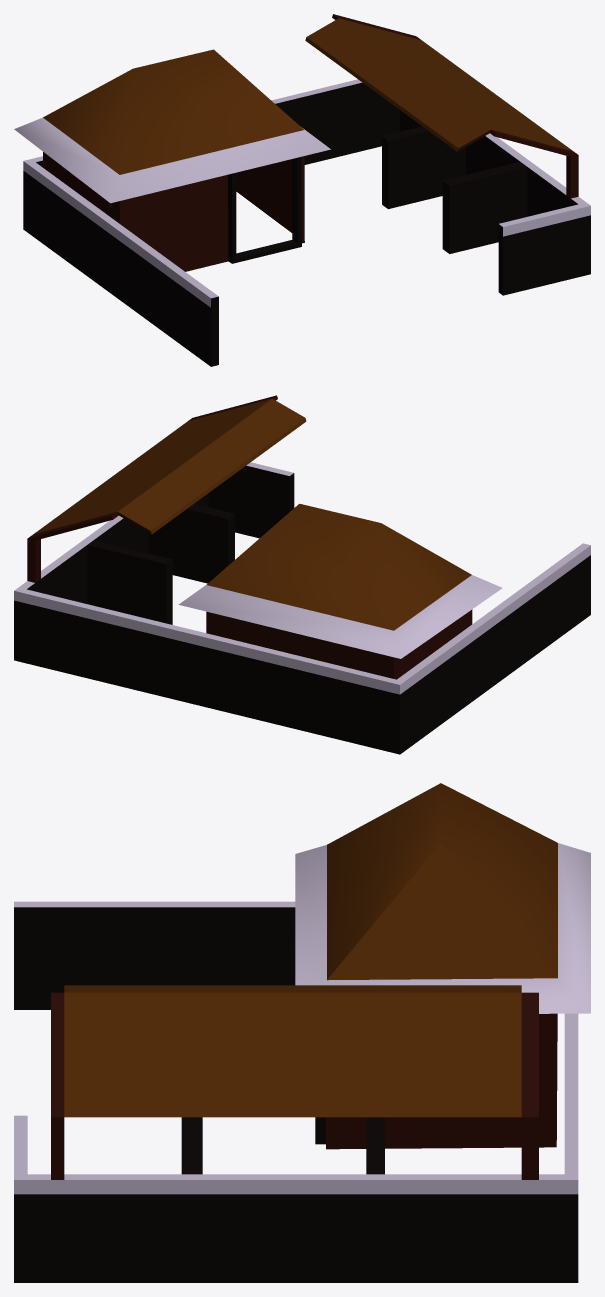
The model's file is stable.obj.
The picture shows the model from 3 angles, top to bottom: view 1: azimuth 30°, elevation 25°; view 2: azimuth 150°, elevation 25°; view 3: azimuth 270°, elevation 25°; orthographic projection. The views are drawn at different scales.
Parts seen in each view (by area): view 1: Cube.006; view 2: Cube.006; view 3: Cube.006.
Part boxes in pixels (bbox=[...]): Cube.006: bbox=[14, 14, 590, 366]; Cube.006: bbox=[14, 395, 590, 754]; Cube.006: bbox=[14, 783, 590, 1282].
Size of the model in its own units: 7.34 by 3.24 by 6.31.
